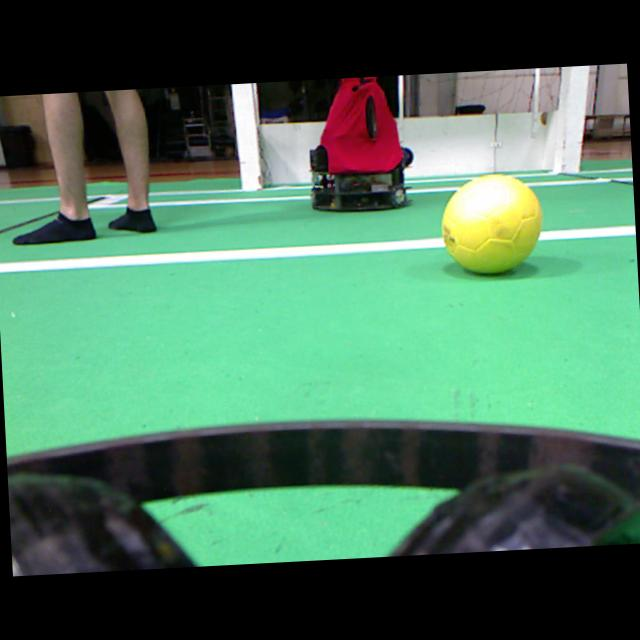ball: (442, 174, 541, 273)
goal: (553, 66, 588, 172), (232, 83, 261, 190)
